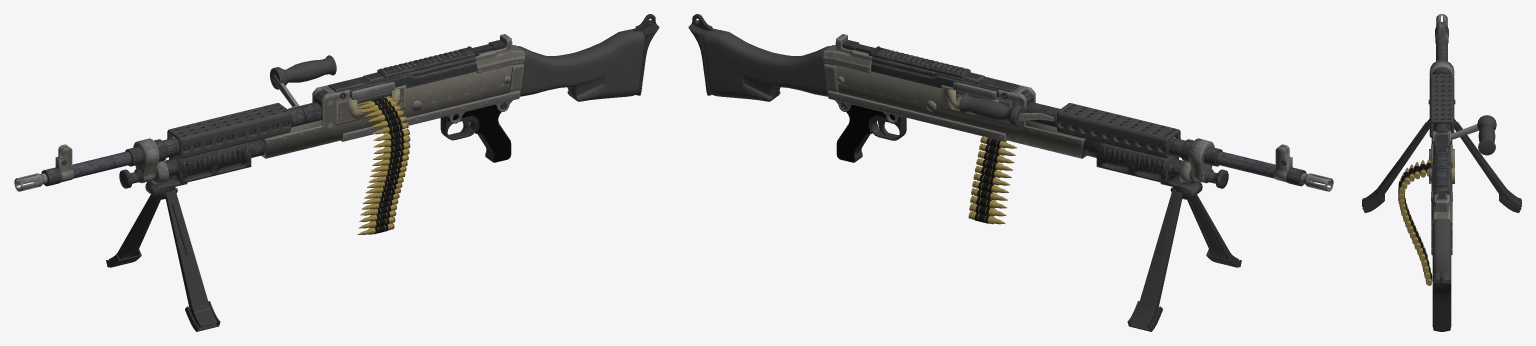
File: m240b_machine_gun1.glb
3 renders of one model, left to right at view 1: azimuth 30°, elevation 25°; view 2: azimuth 150°, elevation 25°; view 3: azimuth 270°, elevation 25°, orthographic. The views are drawn at different scales.
Parts seen in each view (by area): view 1: gun_low, bullet001; view 2: gun_low, bullet001; view 3: gun_low, bullet001.
Boxes of the visible parts, x1,y1,x2,y2 form: gun_low: (14, 14, 659, 331); bullet001: (357, 96, 410, 234); gun_low: (688, 14, 1333, 331); bullet001: (968, 136, 1016, 224); gun_low: (1362, 14, 1521, 331); bullet001: (1398, 159, 1432, 285).
Size of the model in its own units: 956 by 253 by 240.
2 materials, 2 textured.
